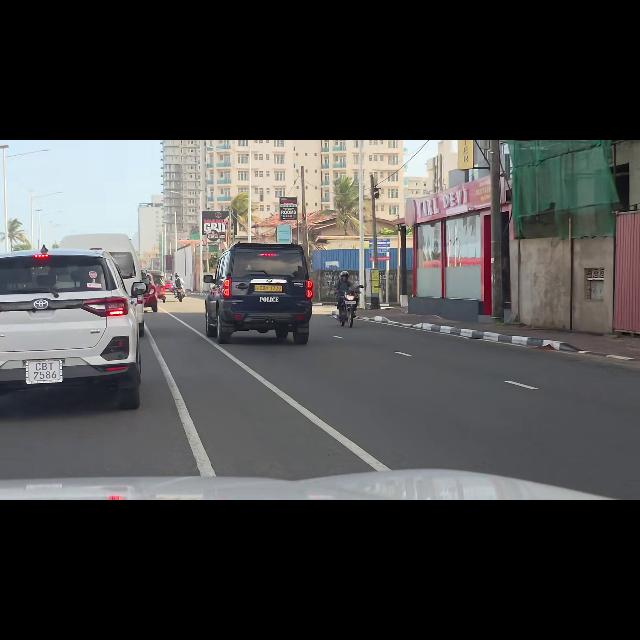broken_line: (356, 345, 536, 403)
car: (3, 258, 129, 400), (214, 247, 314, 335)
double_solid_line: (156, 364, 342, 456)
helmet: (339, 272, 351, 280)
motorcycle: (335, 294, 359, 320)
number_plate: (24, 358, 64, 384), (252, 280, 286, 294)
person: (339, 274, 353, 302)
